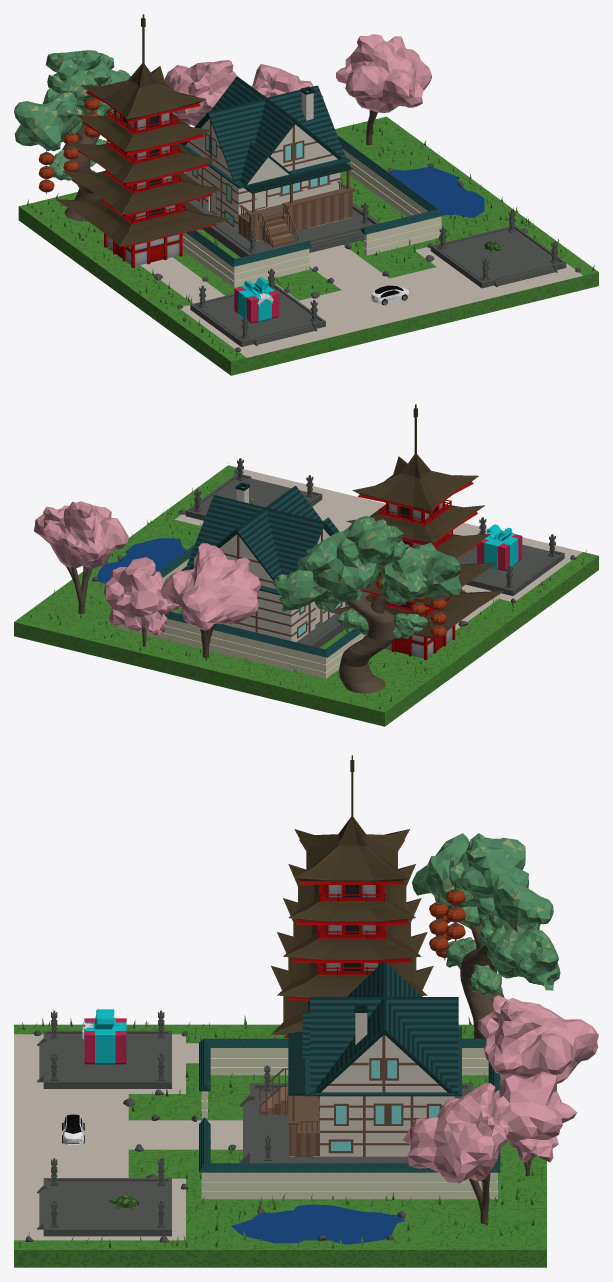
3 views of the same model, one above another, from view 1: azimuth 30°, elevation 25°; view 2: azimuth 150°, elevation 25°; view 3: azimuth 270°, elevation 25° (orthographic). The views are drawn at different scales.
Visible parts, largest first — view 1: Cube.005, Cube.793, OBJRANDOM_GIANT_PRESENT, VEHICLES_TESLA; view 2: Cube.005, Cube.793, OBJRANDOM_GIANT_PRESENT; view 3: Cube.005, Cube.793, OBJRANDOM_GIANT_PRESENT.
Boxes of the visible parts, x1=… form: Cube.005: x1=14, y1=14, x2=598, y2=375; Cube.793: x1=179, y1=76, x2=355, y2=248; OBJRANDOM_GIANT_PRESENT: x1=234, y1=277, x2=279, y2=323; VEHICLES_TESLA: x1=371, y1=285, x2=409, y2=305; Cube.005: x1=14, y1=404, x2=598, y2=726; Cube.793: x1=181, y1=482, x2=347, y2=641; OBJRANDOM_GIANT_PRESENT: x1=477, y1=524, x2=522, y2=570; Cube.005: x1=14, y1=755, x2=598, y2=1267; Cube.793: x1=259, y1=961, x2=461, y2=1156; OBJRANDOM_GIANT_PRESENT: x1=82, y1=1009, x2=127, y2=1064.
Size of the model in its own units: 4528 by 2693 by 4389.
Materials: 35 (6 with a texture image).
